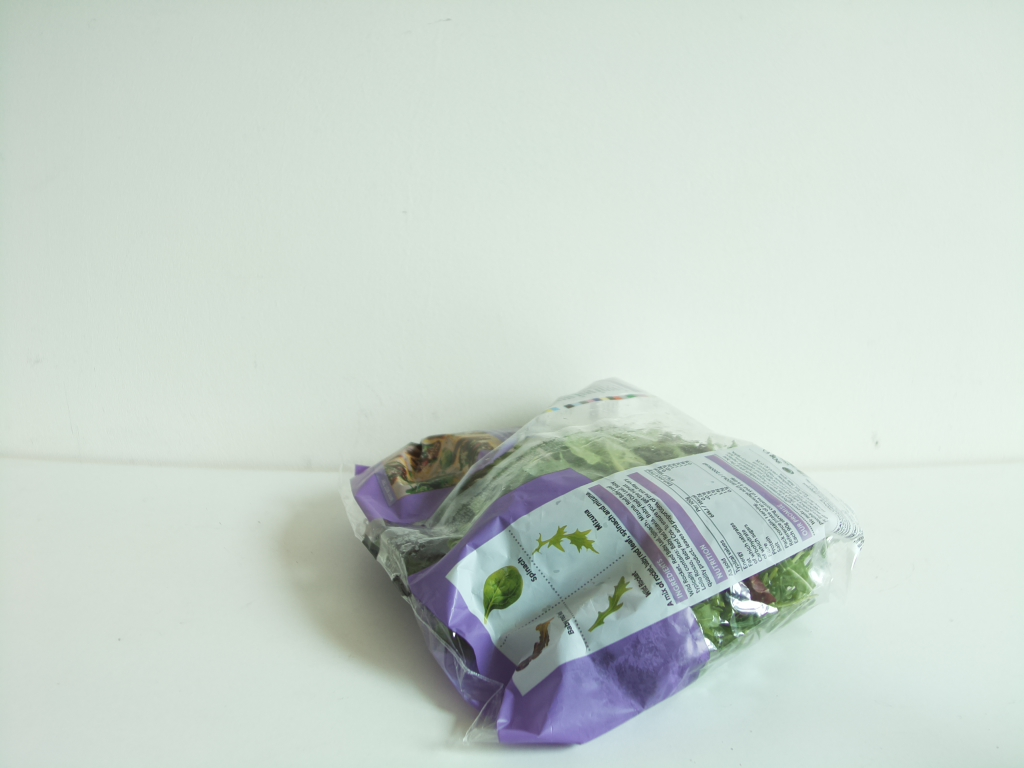salad: (352, 380, 866, 747)
